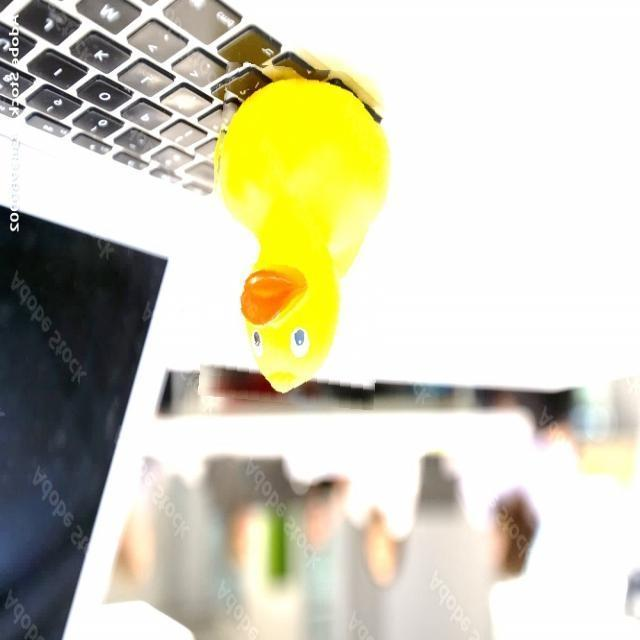rubber-duck: (215, 77, 387, 390)
